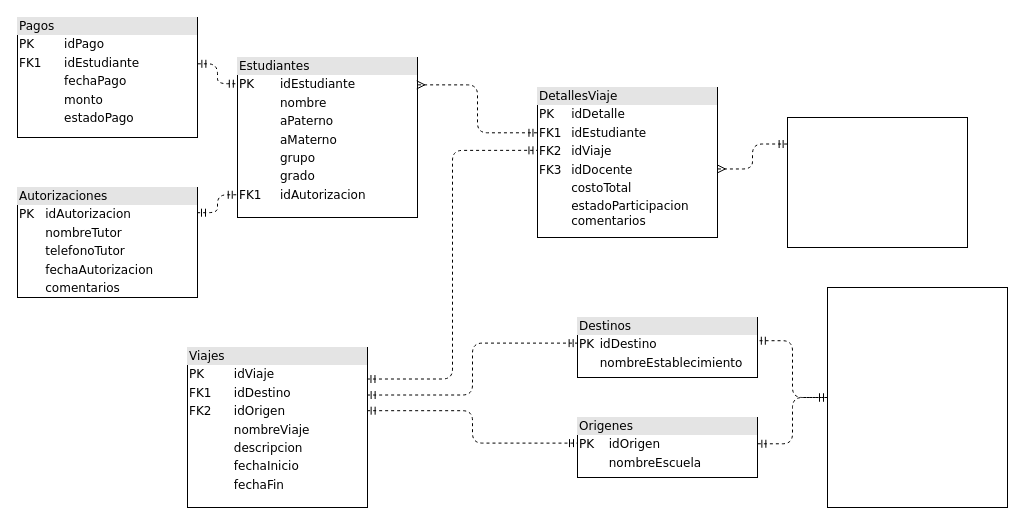
This 1025x525 diagram has some shape labels left out. The shapes that lost their labels are listed below. From the top down, each one's box as (x1, y1, x2, y2) in pixels, then its label:
(786, 116, 968, 248): Docentes PK idDocente nombre aPaterno aMaterno telefono especialidad
(826, 286, 1008, 508): Lugar pais estado ciudad CP calle noInterior noExterior
